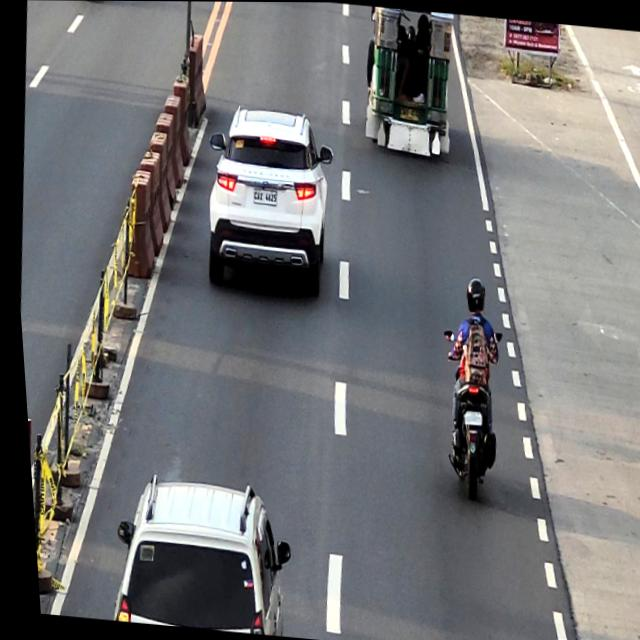Car: (94, 468, 293, 637), (192, 102, 343, 300)
Jeep: (353, 5, 463, 160)
License-Plate: (249, 187, 275, 206), (456, 408, 477, 425), (396, 106, 418, 121)
Motorcycle: (423, 325, 507, 502)
